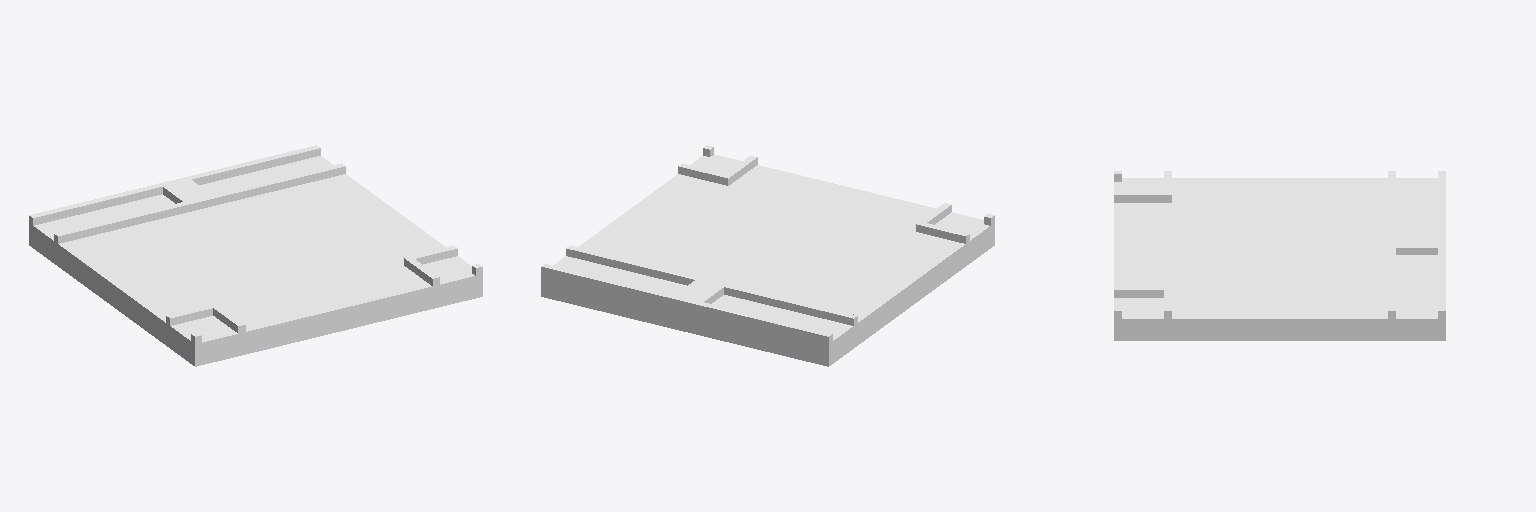
Rendered from RoadT1.vox.obj.
3 renders of one model, left to right at view 1: azimuth 30°, elevation 25°; view 2: azimuth 150°, elevation 25°; view 3: azimuth 270°, elevation 25°, orthographic.
Visible parts, largest first — view 1: object 1; view 2: object 1; view 3: object 1.
Part boxes in pixels (x1,y1,x2,y2): object 1: (29, 145, 482, 366); object 1: (541, 145, 994, 366); object 1: (1114, 171, 1445, 340).
Size of the model in its own units: 4 by 0.4 by 4.